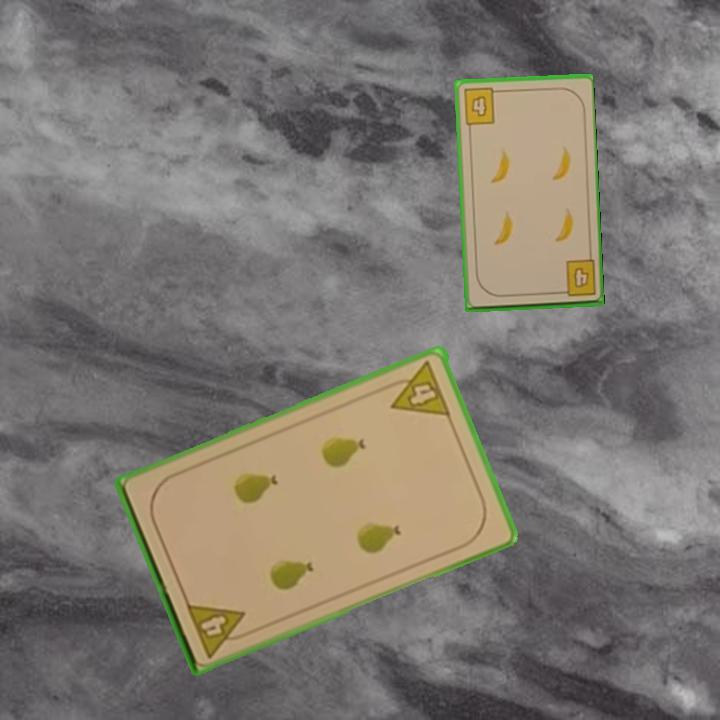4b: (460, 84, 503, 128), (554, 257, 598, 300)
4p: (381, 357, 454, 420), (182, 598, 255, 661)
